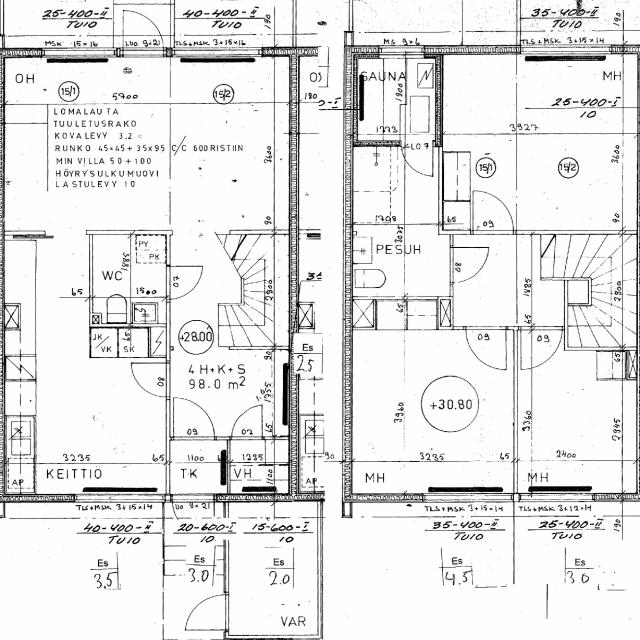door: (172, 493, 214, 542), (123, 9, 163, 58), (520, 326, 562, 370), (174, 397, 214, 440), (473, 192, 513, 234), (466, 326, 506, 368), (188, 594, 228, 630), (450, 247, 489, 282), (132, 363, 170, 397), (166, 266, 204, 298), (401, 140, 433, 178), (232, 407, 262, 440)
